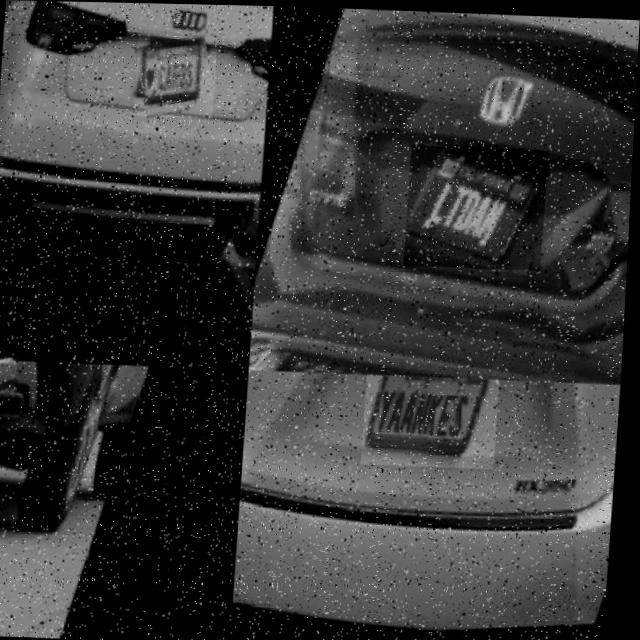LicensePlate: (405, 144, 549, 268), (365, 373, 504, 467), (134, 33, 218, 117), (0, 356, 20, 397)
